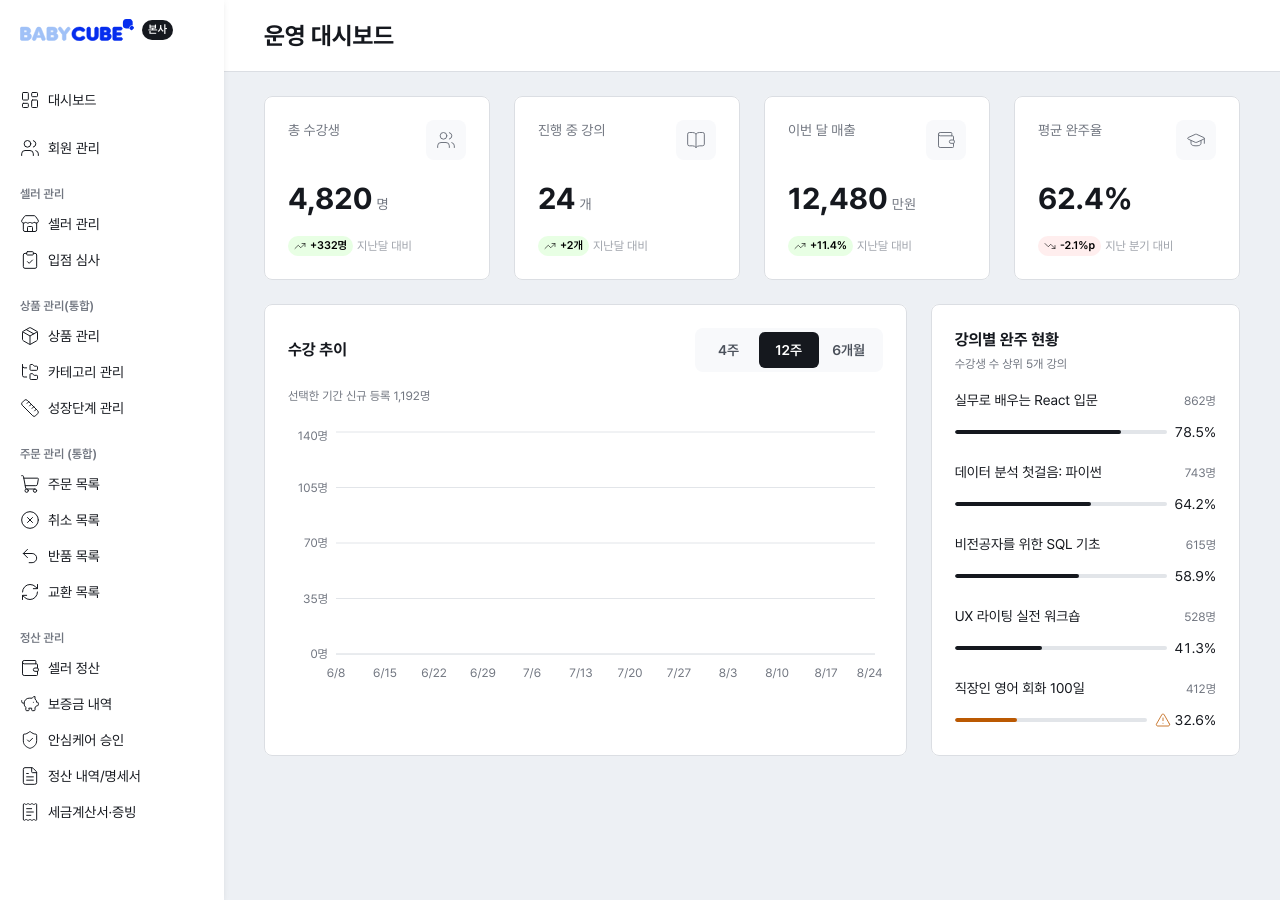
Scenario: OpsDashboardPage (운영 대시보드) › 수강 추이 차트 › 4주로 바꾸면 마지막 4주만 남아 합계가 481명이 된다
Step 1. Click the radio button labelled "4주" → coordinates (729, 350), box [699,332,759,368]
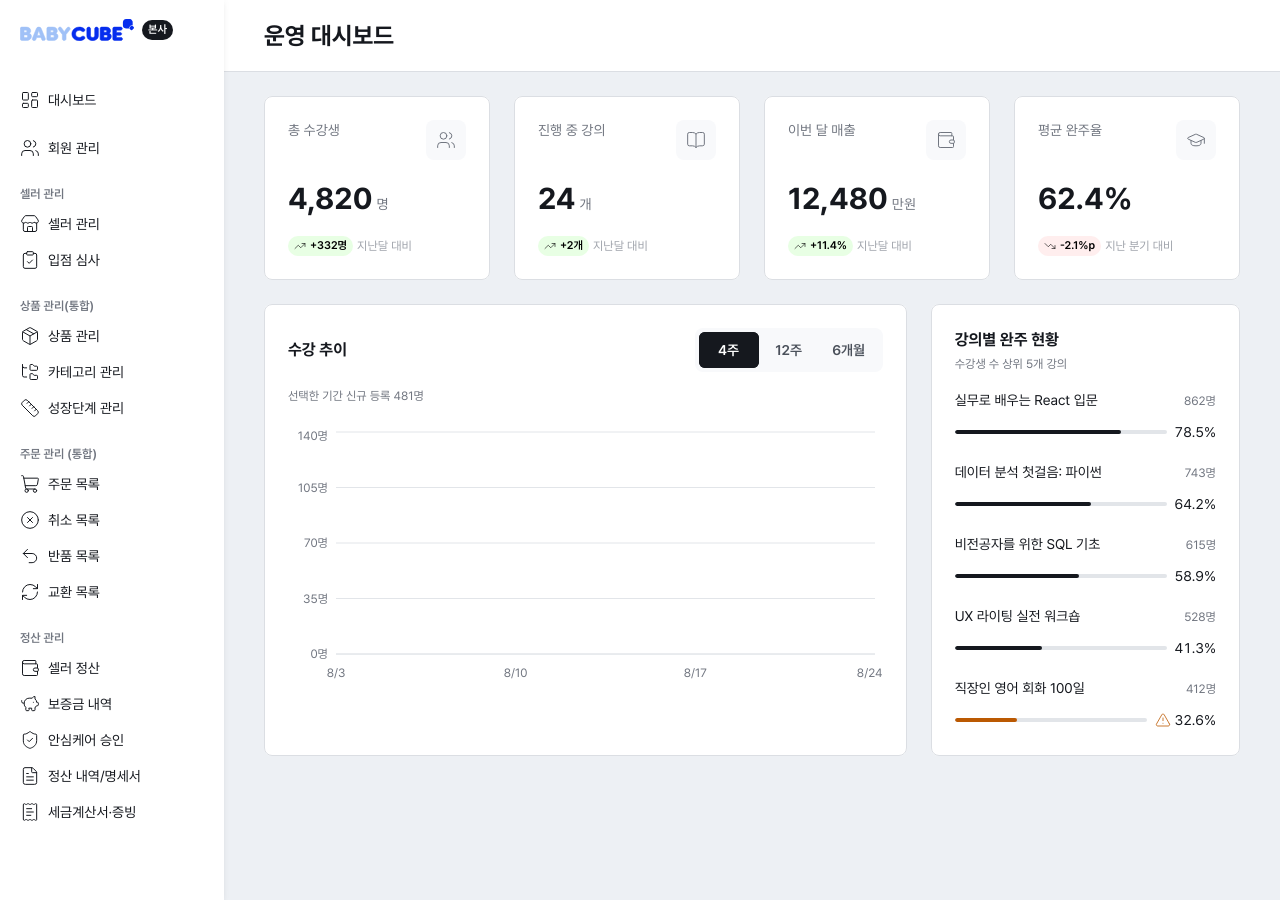
expect the picture named "최근 4주 신규 수강 등록 수 추이" is shown: met, box [288,424,883,684]
expect the text "선택한 기간 신규 등록 481명" is shown: met, box [288,389,424,403]
